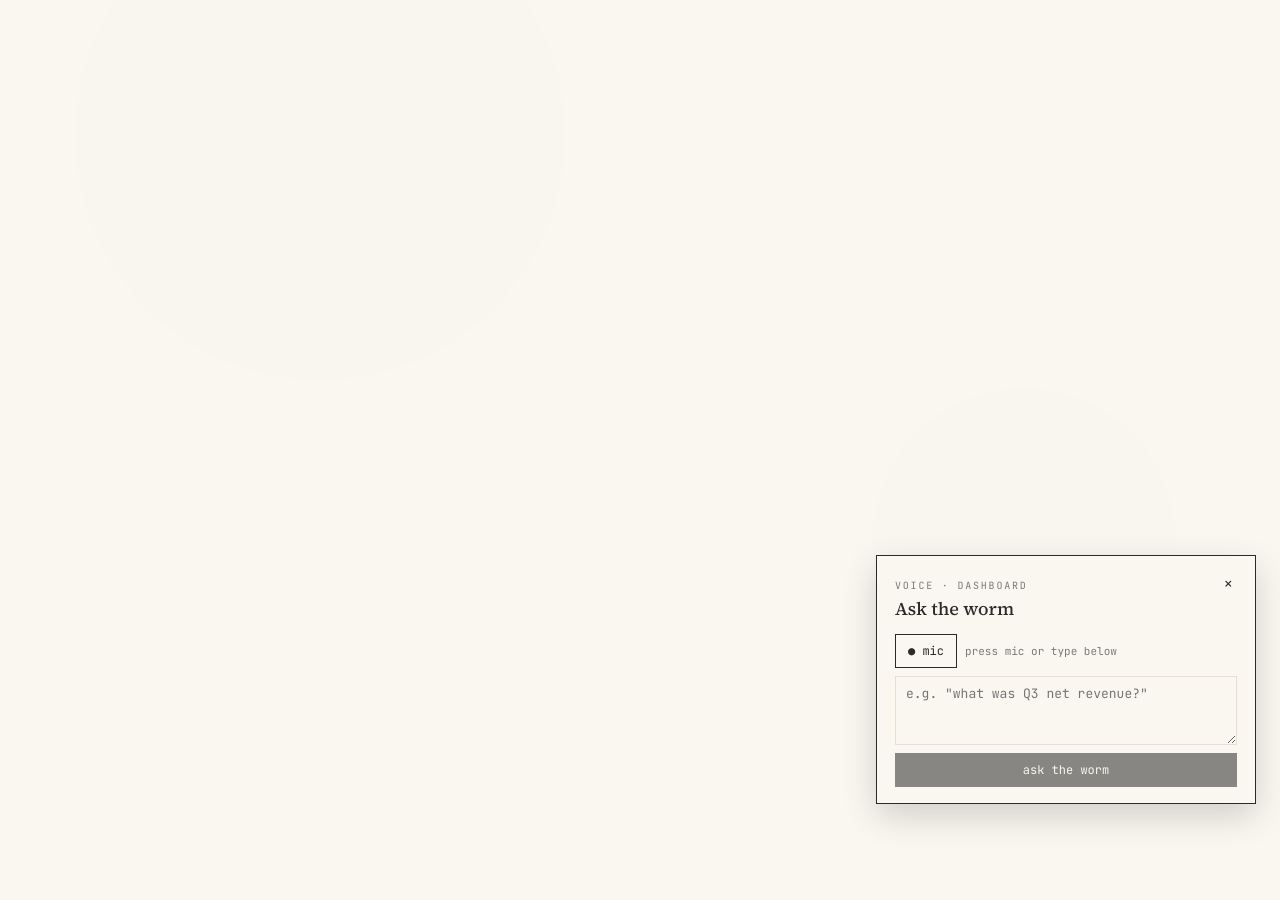
Test: VoicePanel — speech-API graceful degradation › classifies onerror service-not-allowed as the not-allowed fallback
Click the button with test id "voice-mic-toggle": [926, 651] box [895,634,957,668]
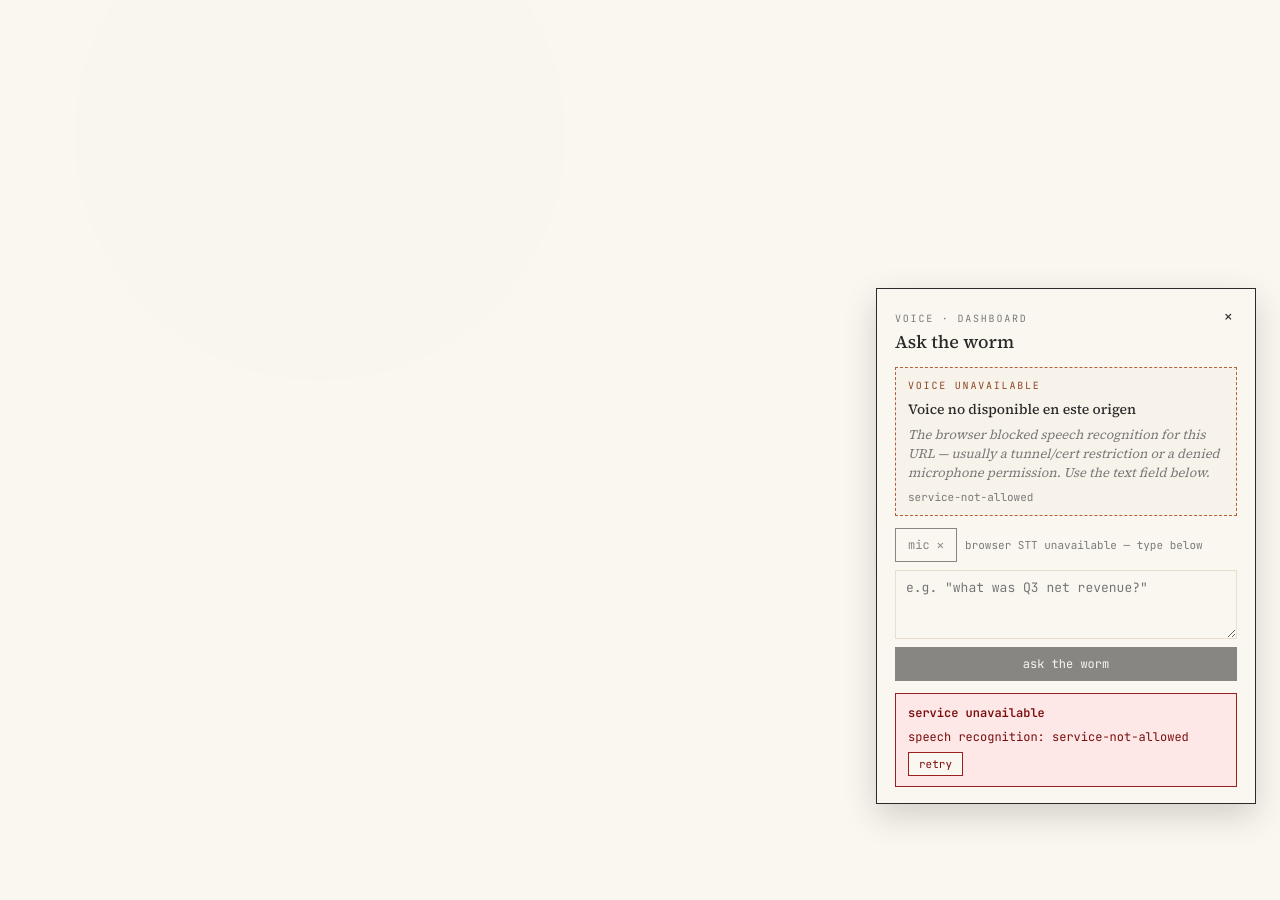
Expected: the text box with test id "voice-transcript" is enabled, [895,570,1237,639]
Now the message with test id "voice-init-fallback" is shown, box [895,367,1237,516]
Now the text with test id "voice-init-detail" reads "service-not-allowed", box [908,490,1033,504]
